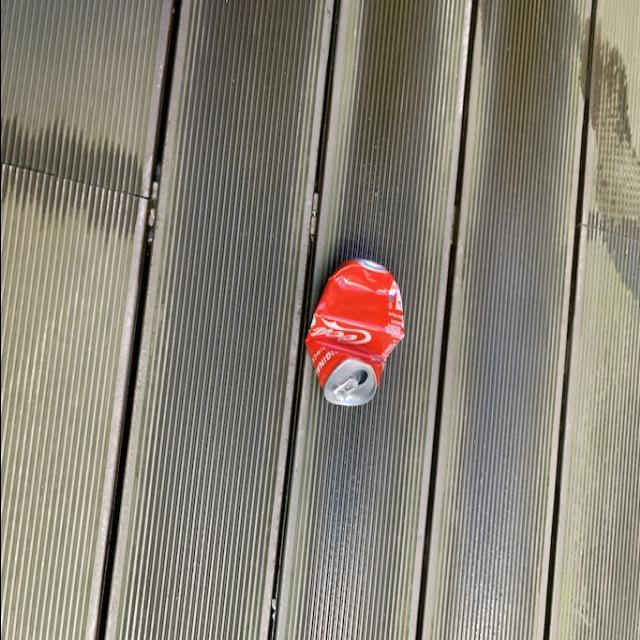Aluminum Can: (304, 252, 404, 408)
